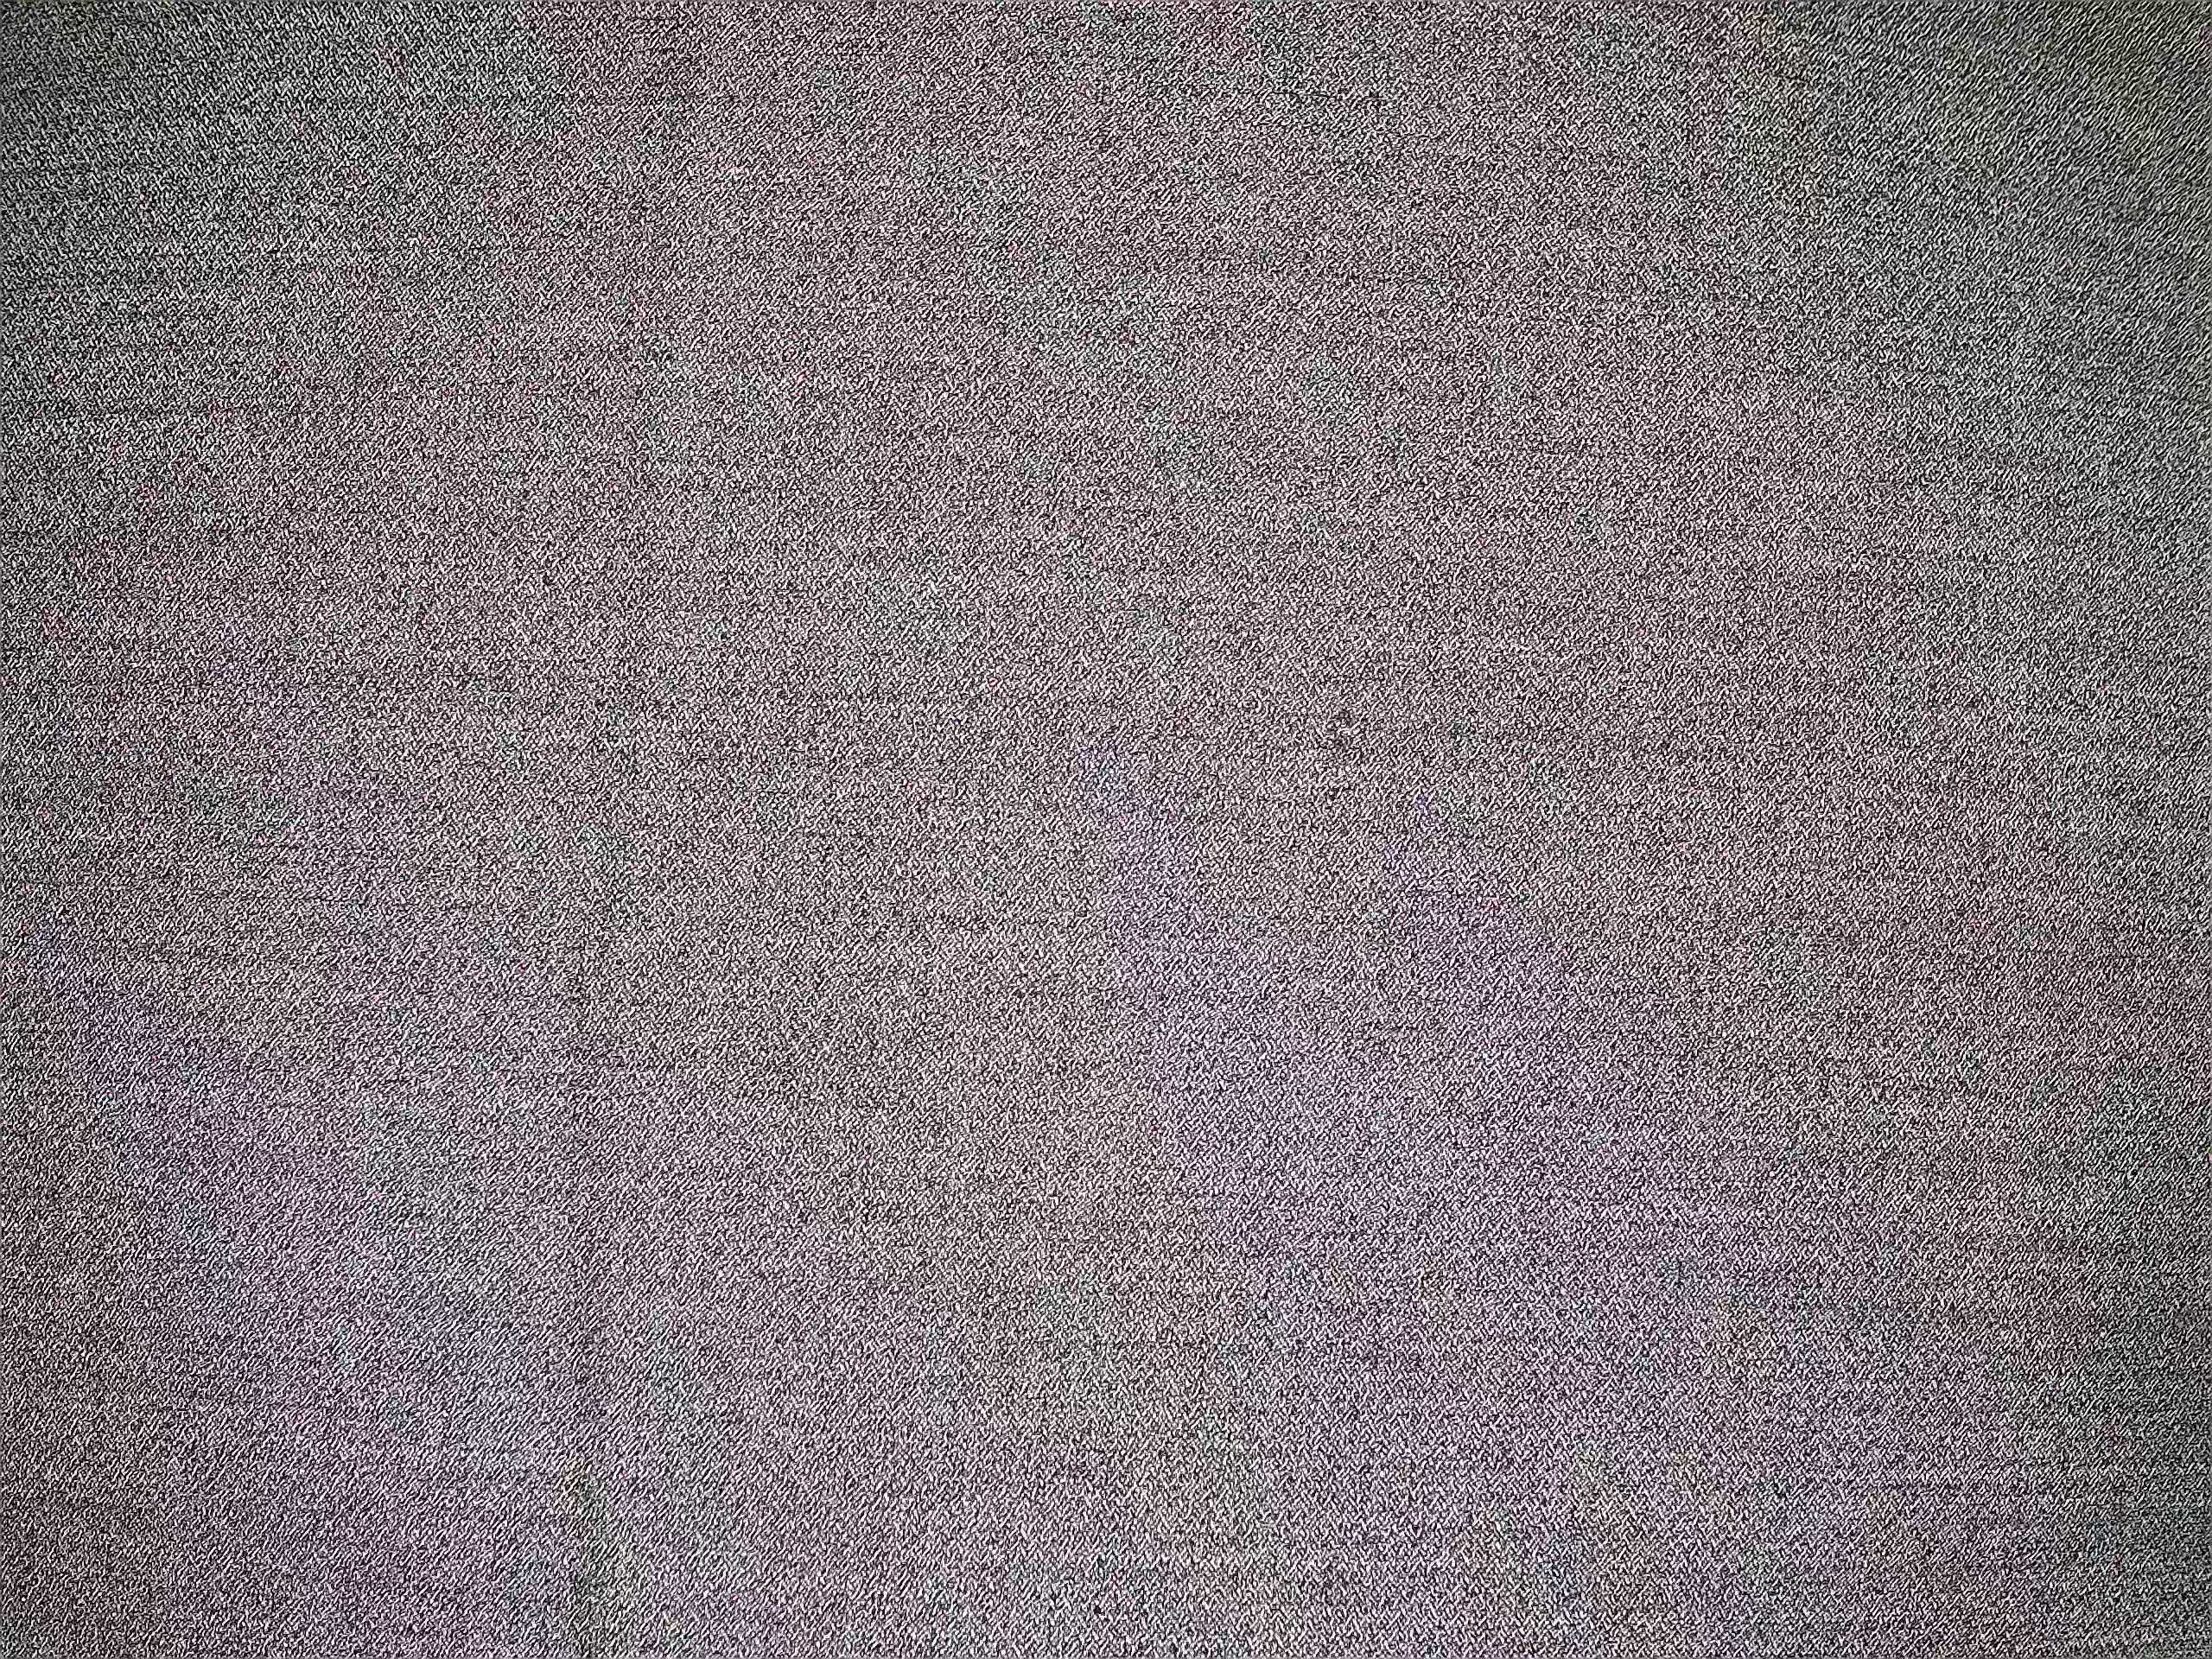brushed-hole: (1280, 685, 1406, 802)
